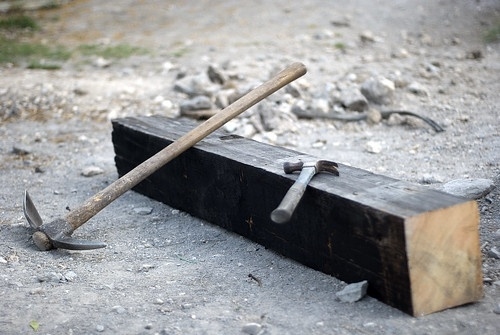hammer: (268, 159, 341, 224)
